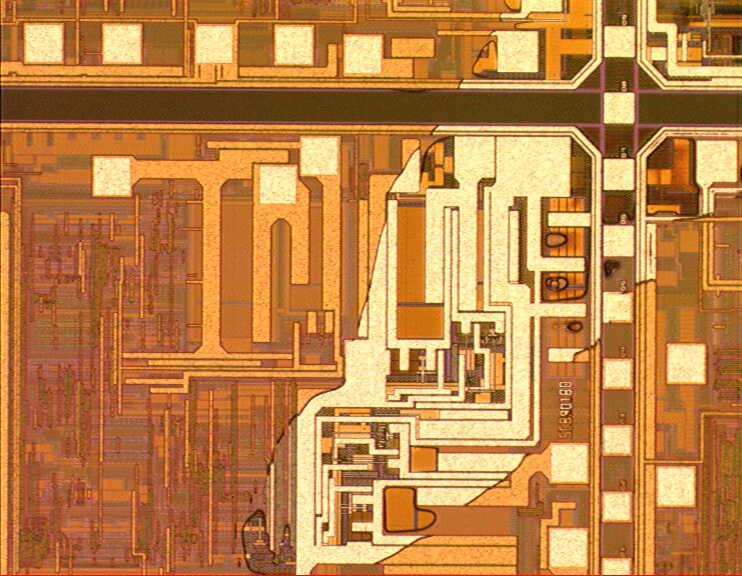COATING BAD: (242, 1, 742, 575)
